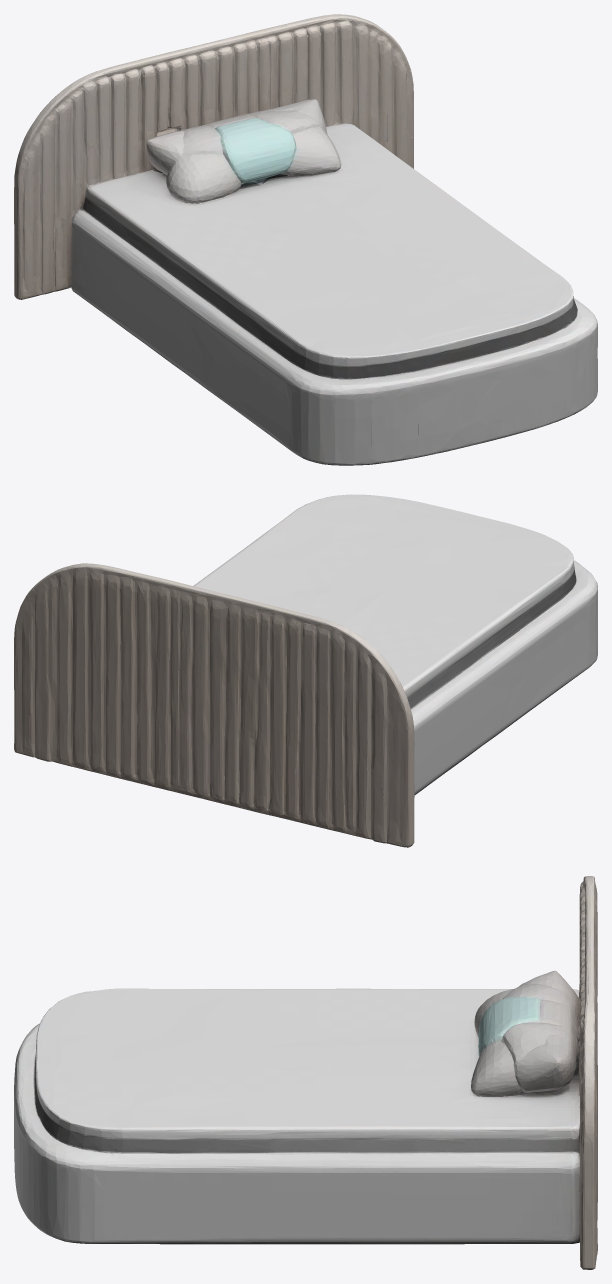
3 renders of one model, top to bottom at view 1: azimuth 30°, elevation 25°; view 2: azimuth 150°, elevation 25°; view 3: azimuth 270°, elevation 25°, orthographic. The views are drawn at different scales.
Parts seen in each view (by area): view 1: world; view 2: world; view 3: world.
Boxes of the visible parts, x1,y1,x2,y2 form: world: (14,14,597,465); world: (14,494,597,847); world: (14,876,597,1269).
Bounding box in the file's own units: 0.8486 × 0.4314 × 0.9989.
1 material, 1 textured.
